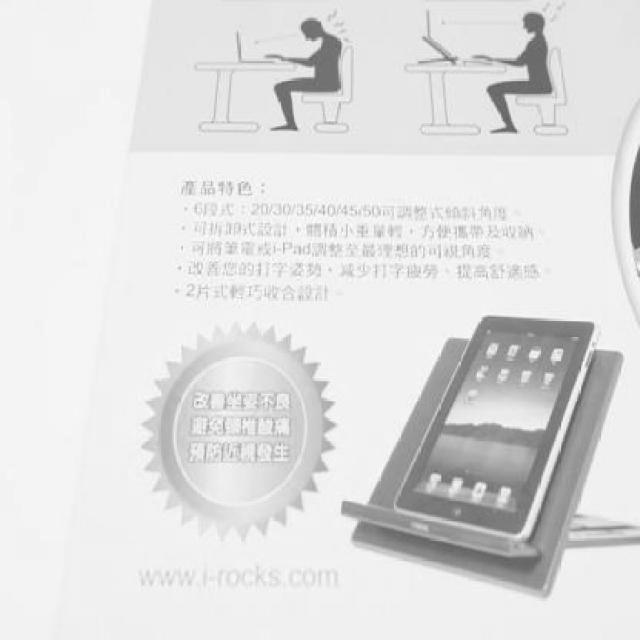fake: (389, 319, 602, 547)
